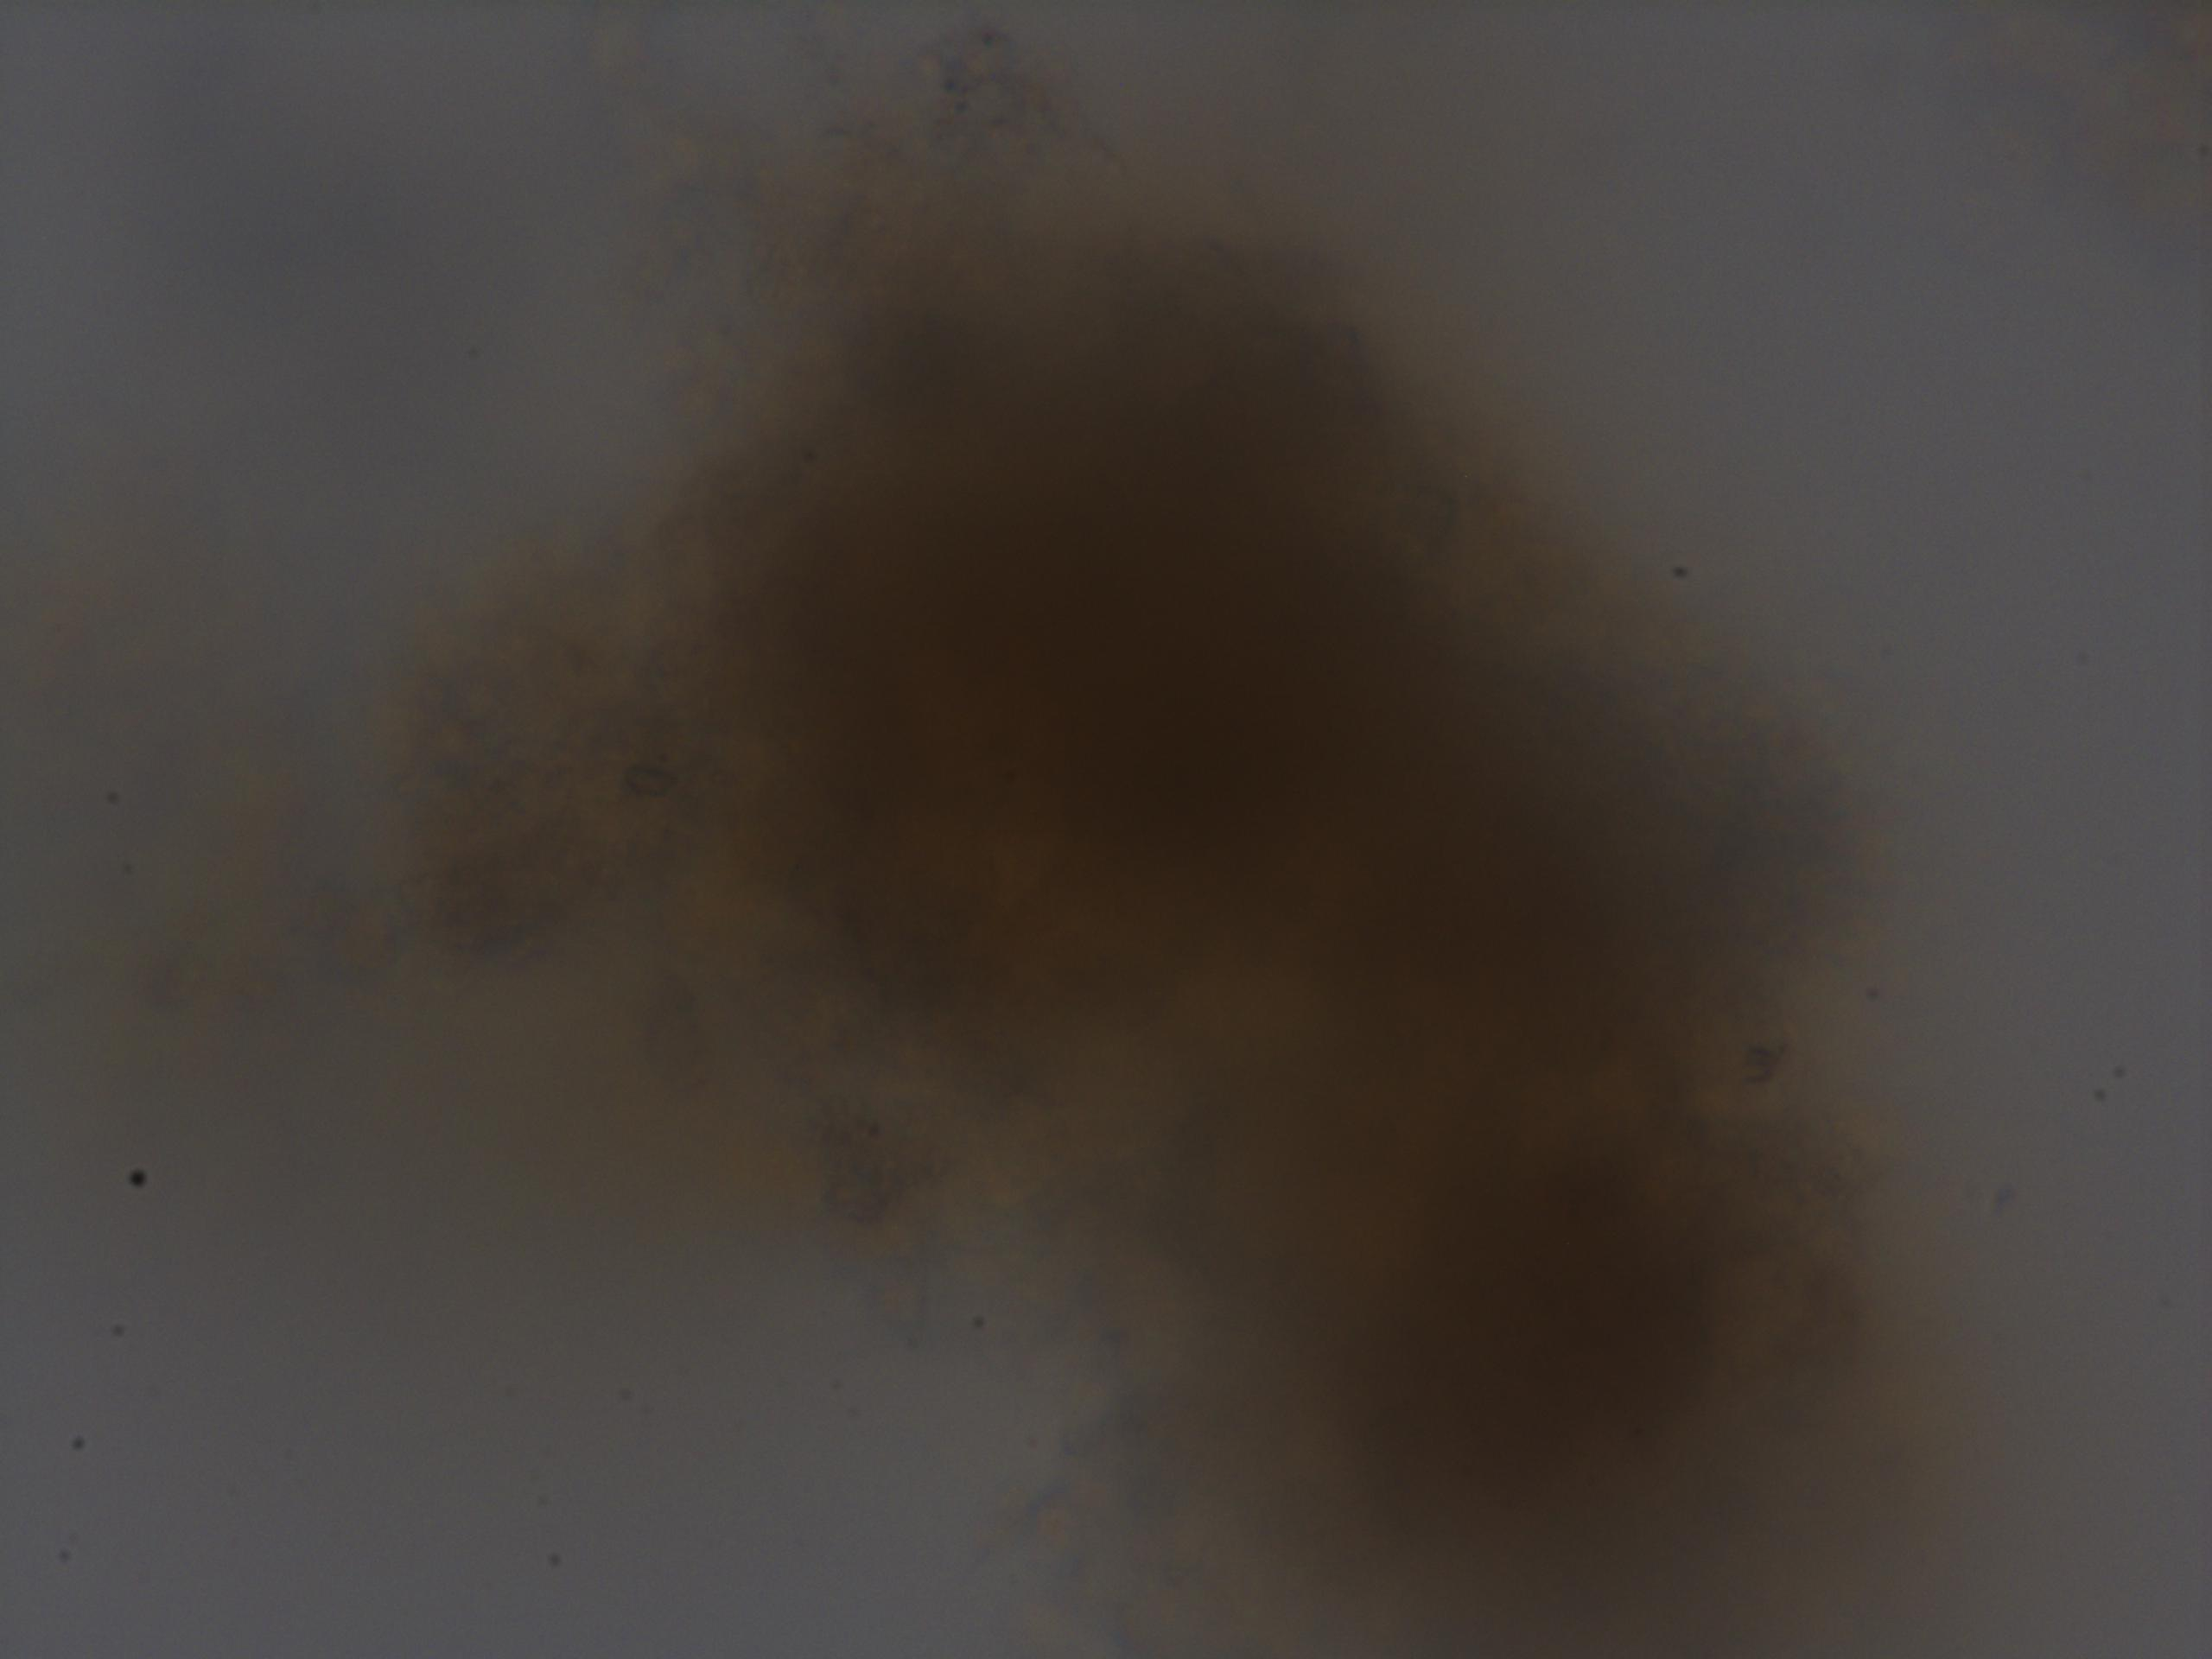spherical_floc: (582, 218, 1858, 1659)
